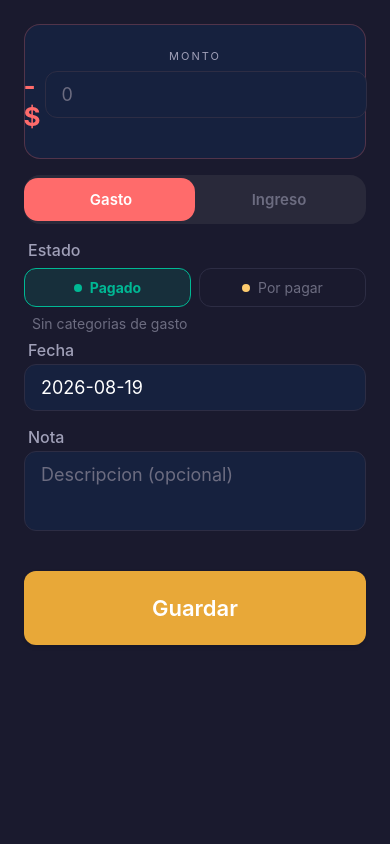
Test: MovementFormScreen › renders type toggle and can switch
Click the radio button "Ingreso": (279, 200) [252,190,306,209]
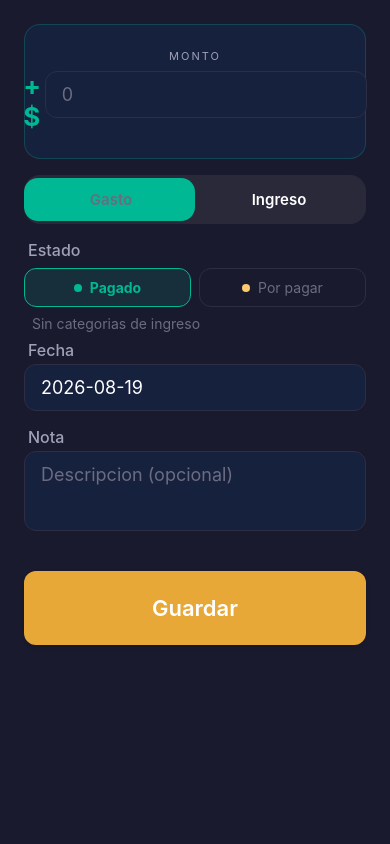
Expected: the text "Sin categorias de ingreso" is shown, [32,315,200,332]
